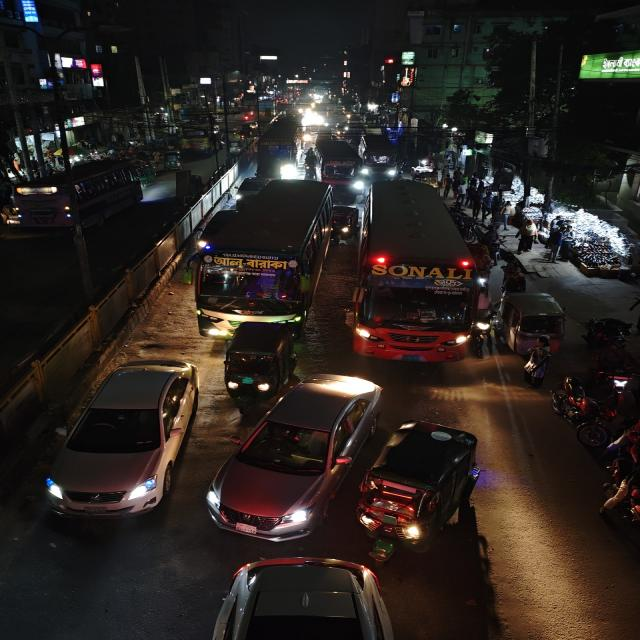bus: (354, 180, 481, 364), (193, 182, 332, 331), (2, 156, 148, 234), (255, 118, 304, 178), (313, 139, 363, 191), (357, 133, 401, 180)
car: (205, 370, 384, 542), (42, 355, 204, 529), (209, 554, 397, 639)
cng: (356, 418, 485, 548), (221, 321, 296, 401), (499, 290, 574, 360), (331, 202, 358, 246), (160, 150, 183, 171)
motorcycle: (596, 454, 640, 546), (592, 342, 639, 396), (549, 374, 591, 424), (584, 315, 634, 356), (302, 148, 319, 180)
pedestrian: (518, 342, 554, 388)
rickshaw: (498, 289, 573, 357)
